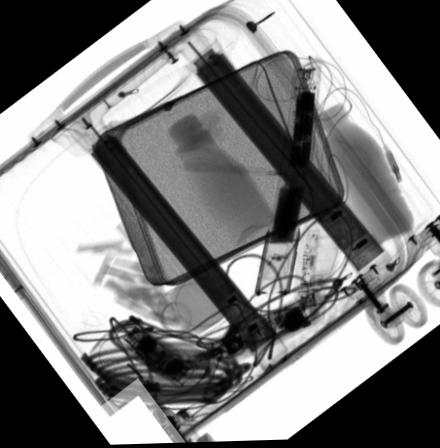Baton: (254, 60, 323, 296)
